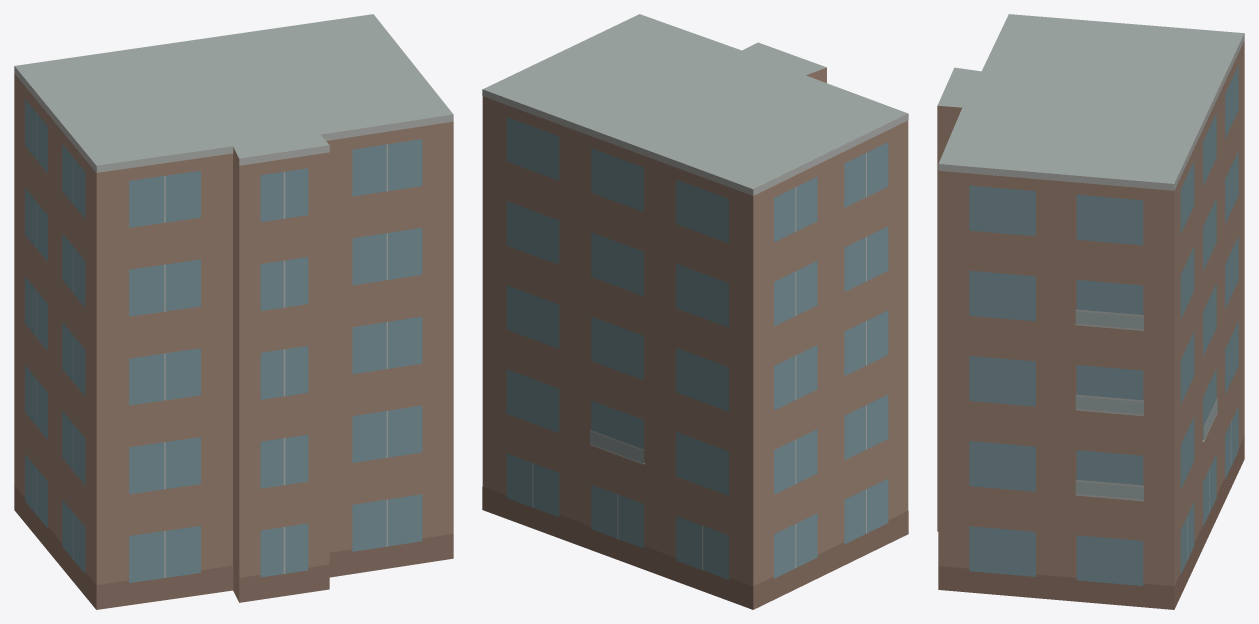
Rendered from survey-upis-32620660.glb.
3 renders of one model, left to right at view 1: azimuth 30°, elevation 25°; view 2: azimuth 150°, elevation 25°; view 3: azimuth 270°, elevation 25°, orthographic. The views are drawn at different scales.
Visible parts, largest first — view 1: survey-upis-32620660.tmp; view 2: survey-upis-32620660.tmp; view 3: survey-upis-32620660.tmp.
Part boxes in pixels (bbox=[...]): survey-upis-32620660.tmp: bbox=[14, 14, 453, 609]; survey-upis-32620660.tmp: bbox=[482, 14, 908, 609]; survey-upis-32620660.tmp: bbox=[937, 14, 1244, 609].
Bounding box in the file's own units: 13.07 × 15.25 × 9.98.
